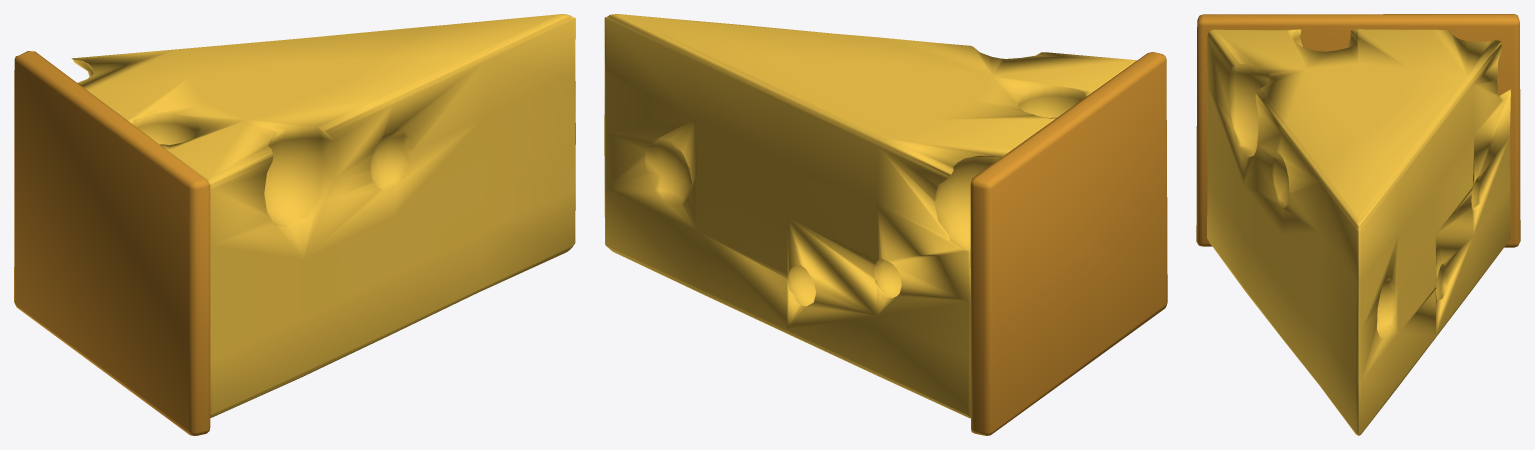
File: items-cheese.glb
3 views of the same model, side by side, from view 1: azimuth 30°, elevation 25°; view 2: azimuth 150°, elevation 25°; view 3: azimuth 270°, elevation 25° (orthographic). The views are drawn at different scales.
Parts seen in each view (by area): view 1: Cheese__Body, Cheese__Rind; view 2: Cheese__Body, Cheese__Rind; view 3: Cheese__Body, Cheese__Rind.
Part boxes in pixels (<box>): Cheese__Body: <box>71,14,575,417</box>; Cheese__Rind: <box>14,51,210,435</box>; Cheese__Body: <box>604,14,1136,418</box>; Cheese__Rind: <box>970,52,1167,435</box>; Cheese__Body: <box>1207,29,1510,435</box>; Cheese__Rind: <box>1196,14,1520,247</box>.
Size of the model in its own units: 10.36 by 5.33 by 6.83.
